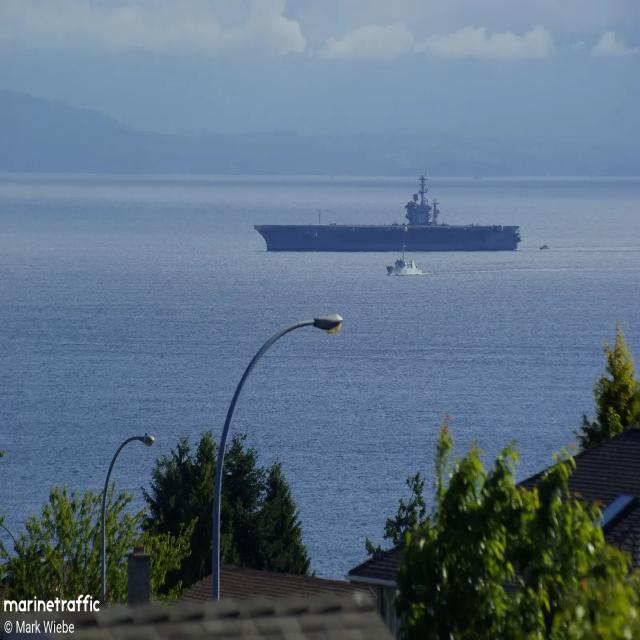Military: (255, 175, 521, 251), (387, 249, 422, 275)
